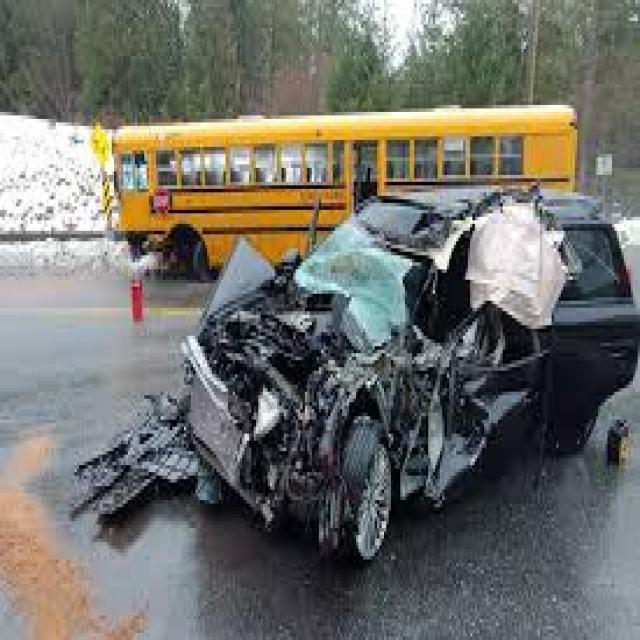accident: (173, 184, 636, 546)
